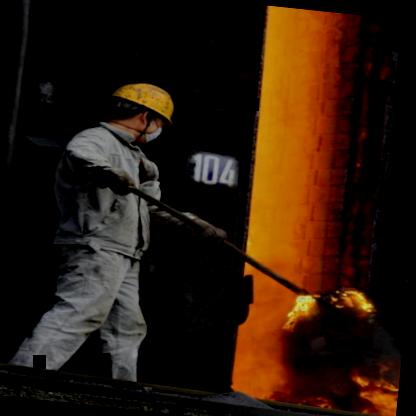helmet: (94, 68, 186, 148)
